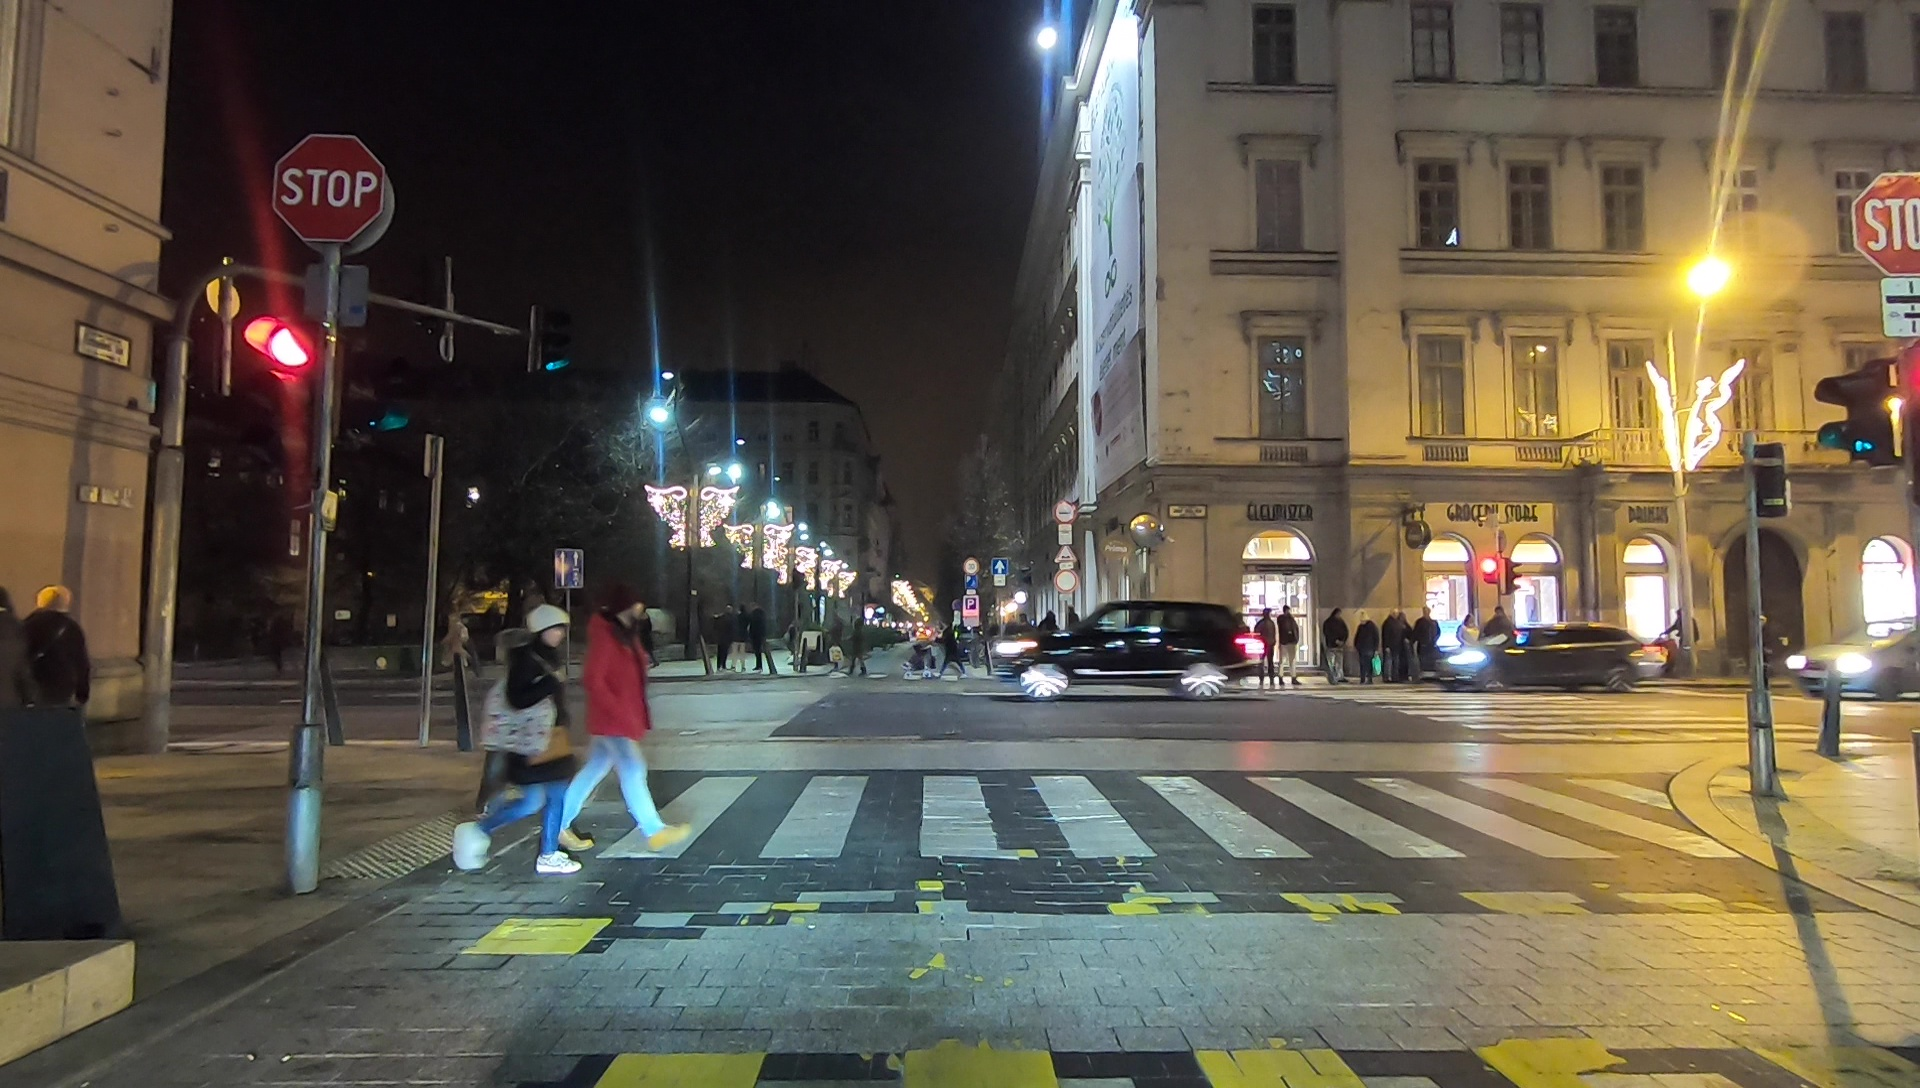person: (567, 610, 695, 865), (462, 608, 571, 878), (25, 586, 97, 745), (1414, 613, 1441, 687), (1325, 611, 1347, 693), (747, 608, 773, 671), (1258, 611, 1280, 682), (1386, 610, 1408, 680), (1356, 611, 1378, 678), (734, 604, 752, 673), (939, 630, 960, 684), (1280, 606, 1295, 684), (712, 604, 728, 663), (849, 617, 864, 676)
